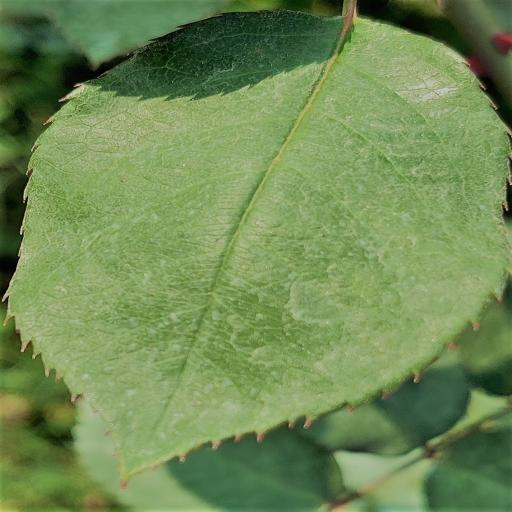healthy_leaf: (5, 12, 509, 480)
